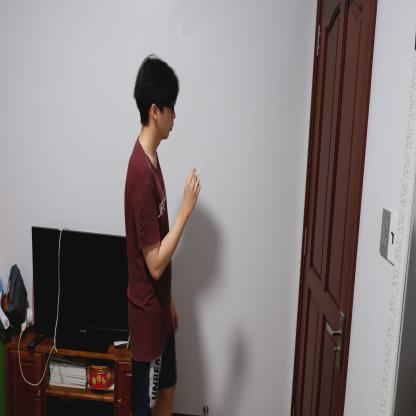cigarette: (197, 160, 205, 180)
person: (121, 50, 198, 415)
